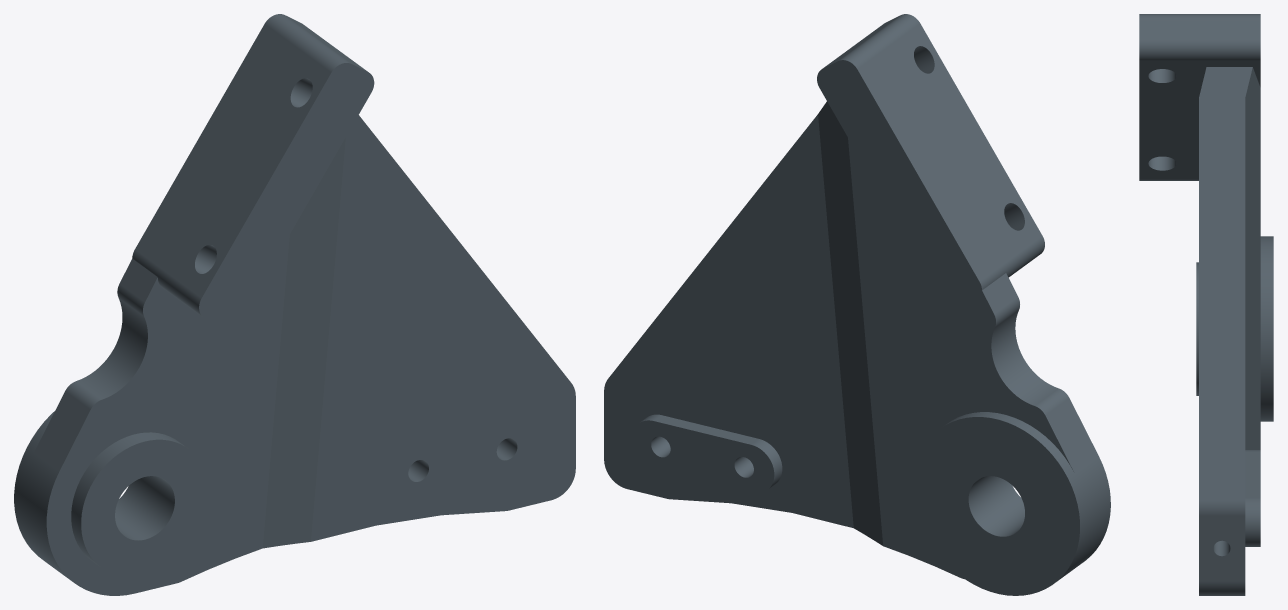
The model's file is dropout_left.glb.
The picture shows the model from 3 angles, left to right: view 1: azimuth 30°, elevation 25°; view 2: azimuth 150°, elevation 25°; view 3: azimuth 270°, elevation 25°; orthographic projection. The views are drawn at different scales.
Visible parts, largest first — view 1: dropout_left; view 2: dropout_left; view 3: dropout_left.
Part boxes in pixels (x1,y1,x2,y2): dropout_left: (14,14,575,595); dropout_left: (604,14,1110,595); dropout_left: (1139,14,1273,595).
Size of the model in its own units: 106 by 101 by 26.05.
